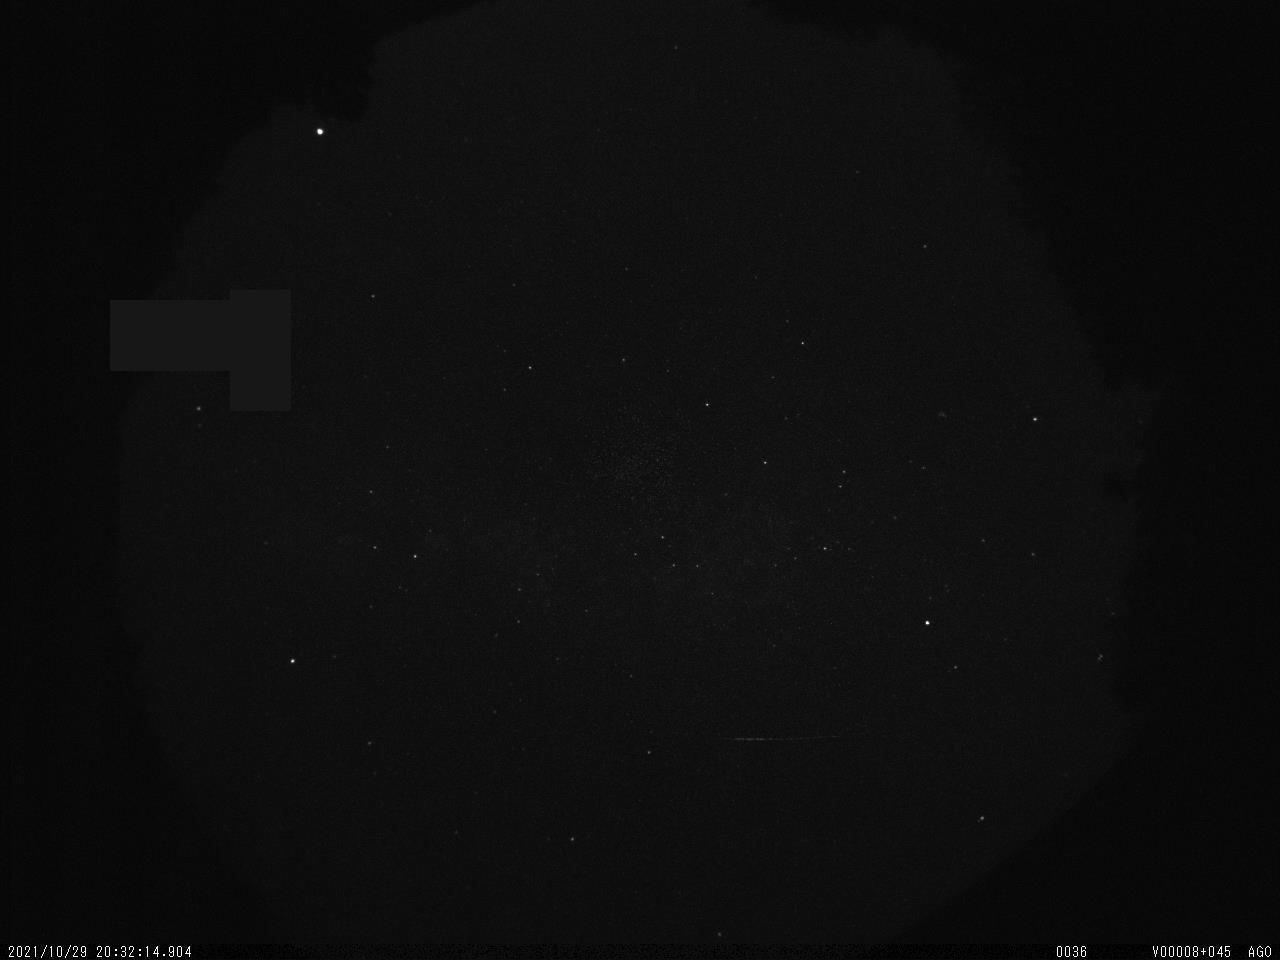Meteor: (719, 729, 840, 749)
